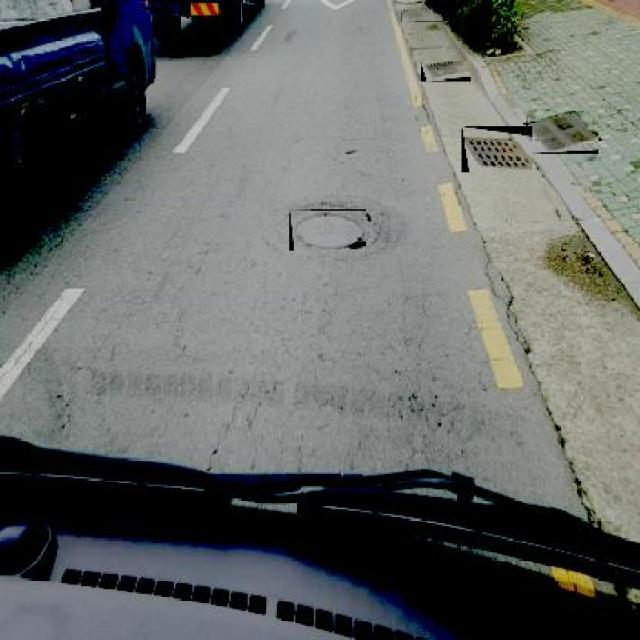Manhole: (462, 127, 533, 173), (289, 209, 366, 251), (526, 112, 599, 154), (420, 61, 471, 82), (399, 6, 444, 22)
